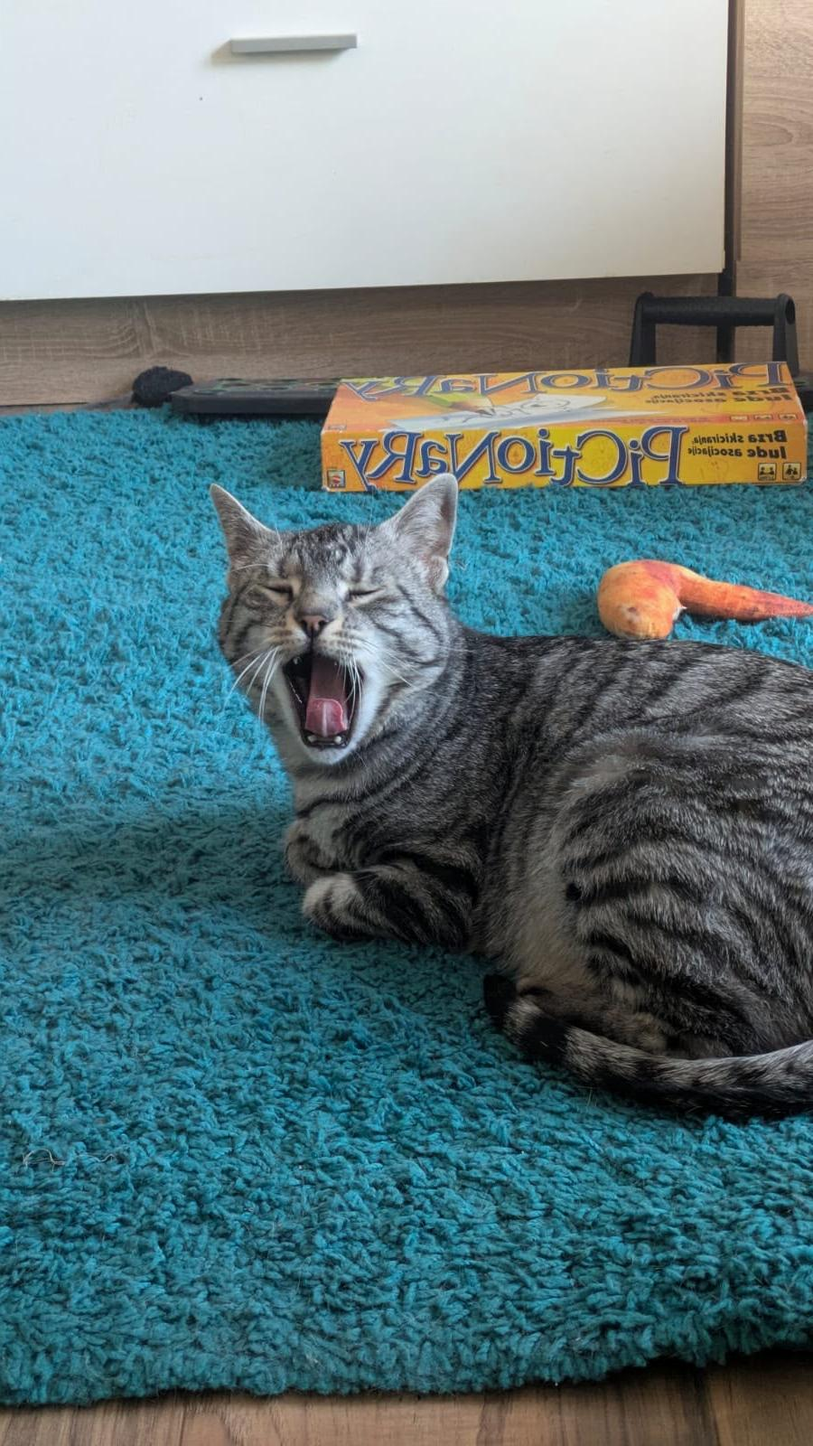macka: (208, 466, 813, 1109)
